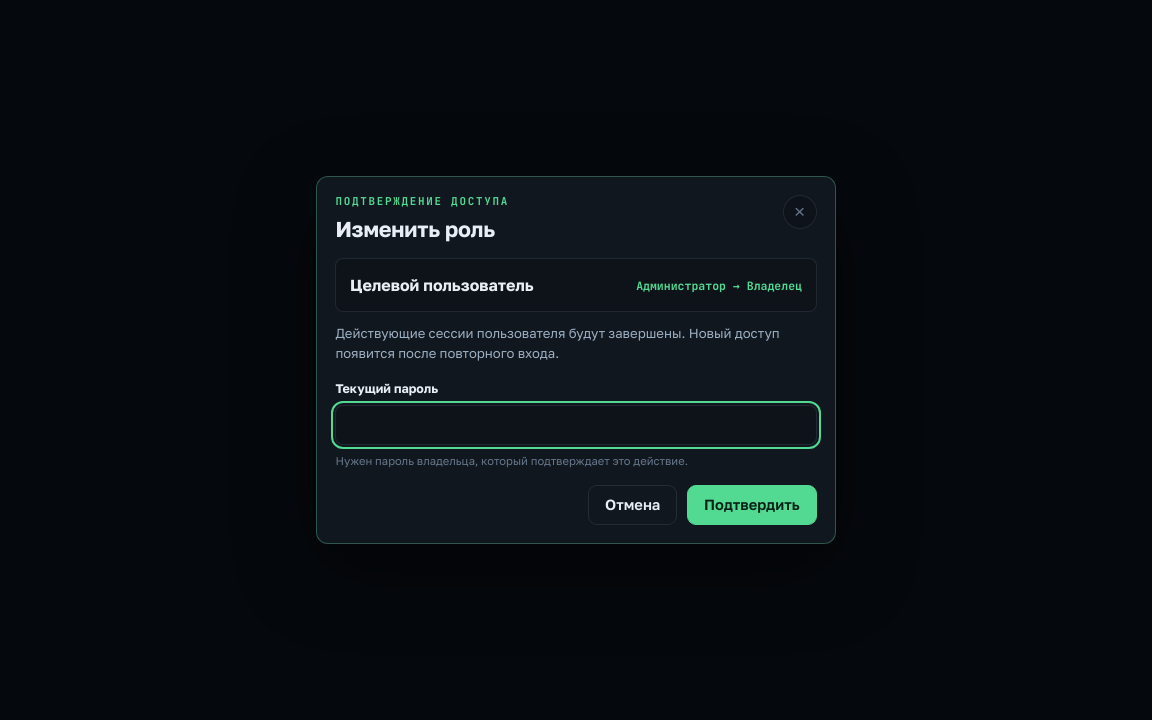
RoleChangeDialog › requires password when promoting a user to owner
The image size is (1152, 720).
Click the button "Подтвердить". click: (752, 505)
box: [687, 485, 817, 525]
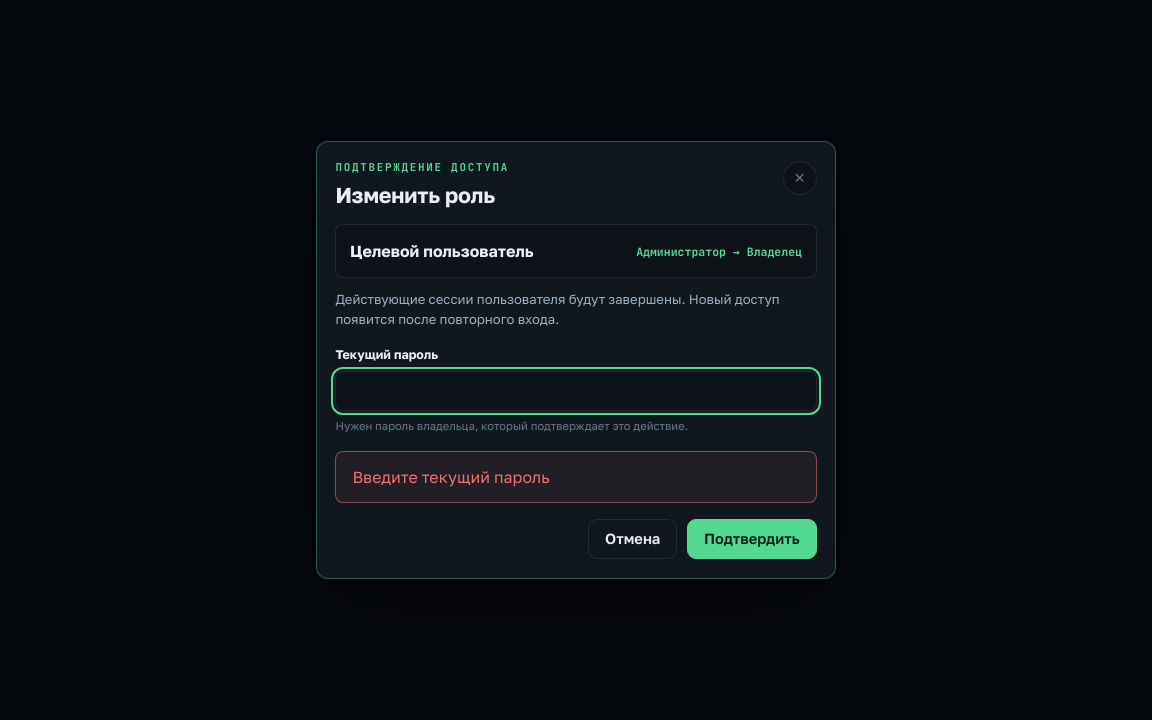
Expected: the message reads "Введите текущий пароль", [352, 466, 550, 486]
